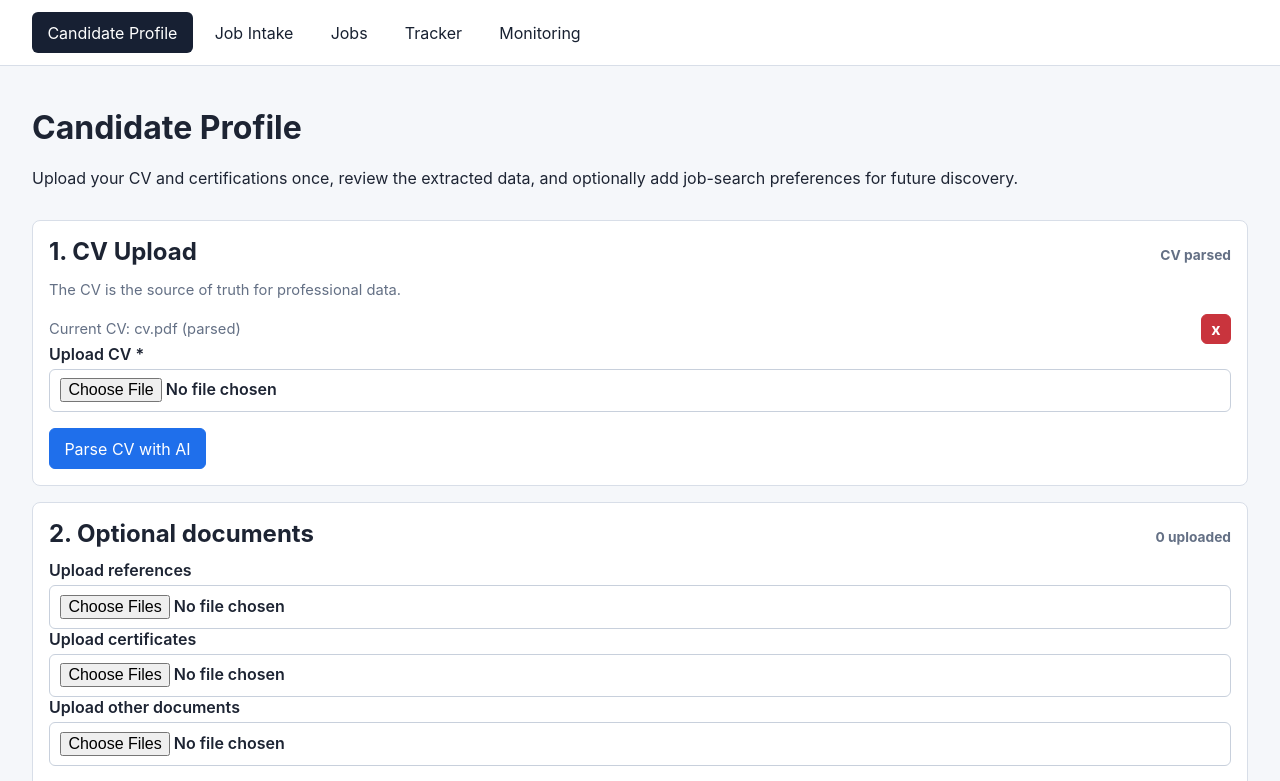
Scenario: App workflow pages › shows Jobs blockers and enables Apply only when review gates are complete
Click the button "Jobs" at coordinates (349, 33), box [315,12,383,53]
(page scrolled)
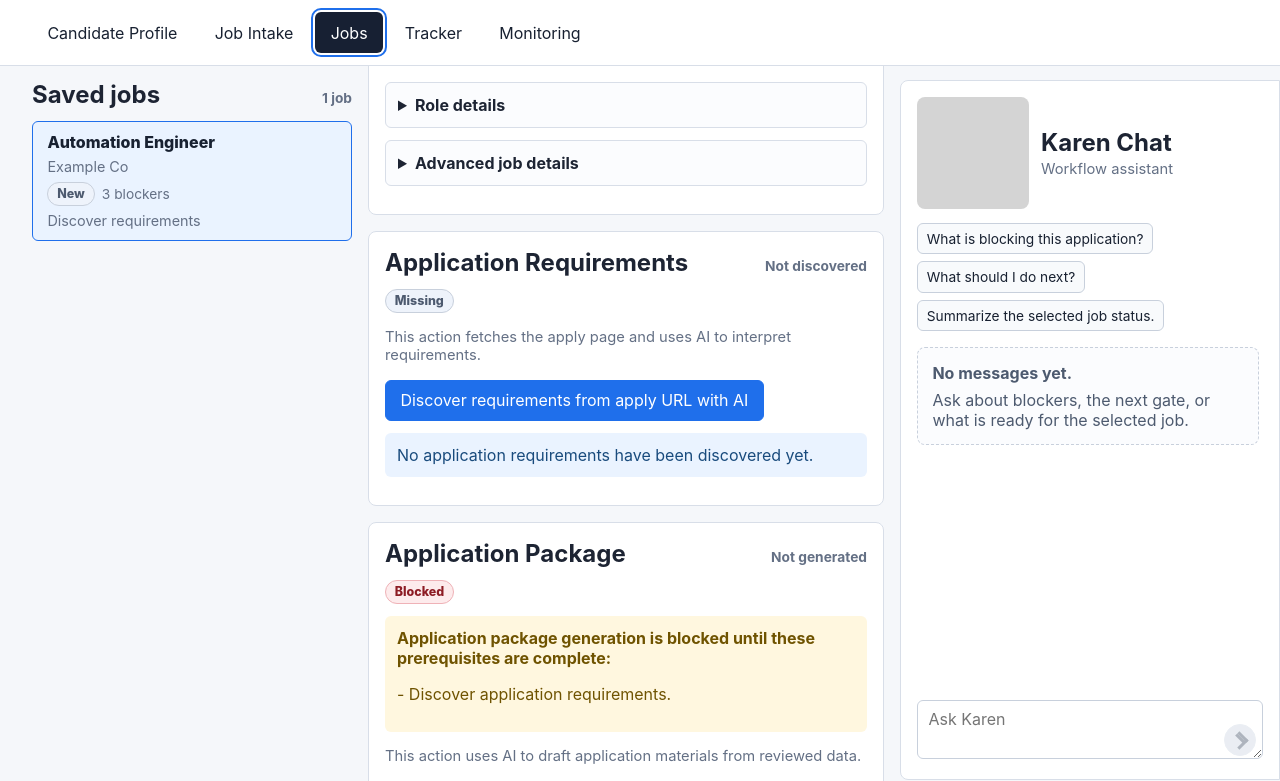
Click the button "Discover requirements from apply URL with AI" at coordinates (574, 400), box [385,380,764,421]
(page scrolled)
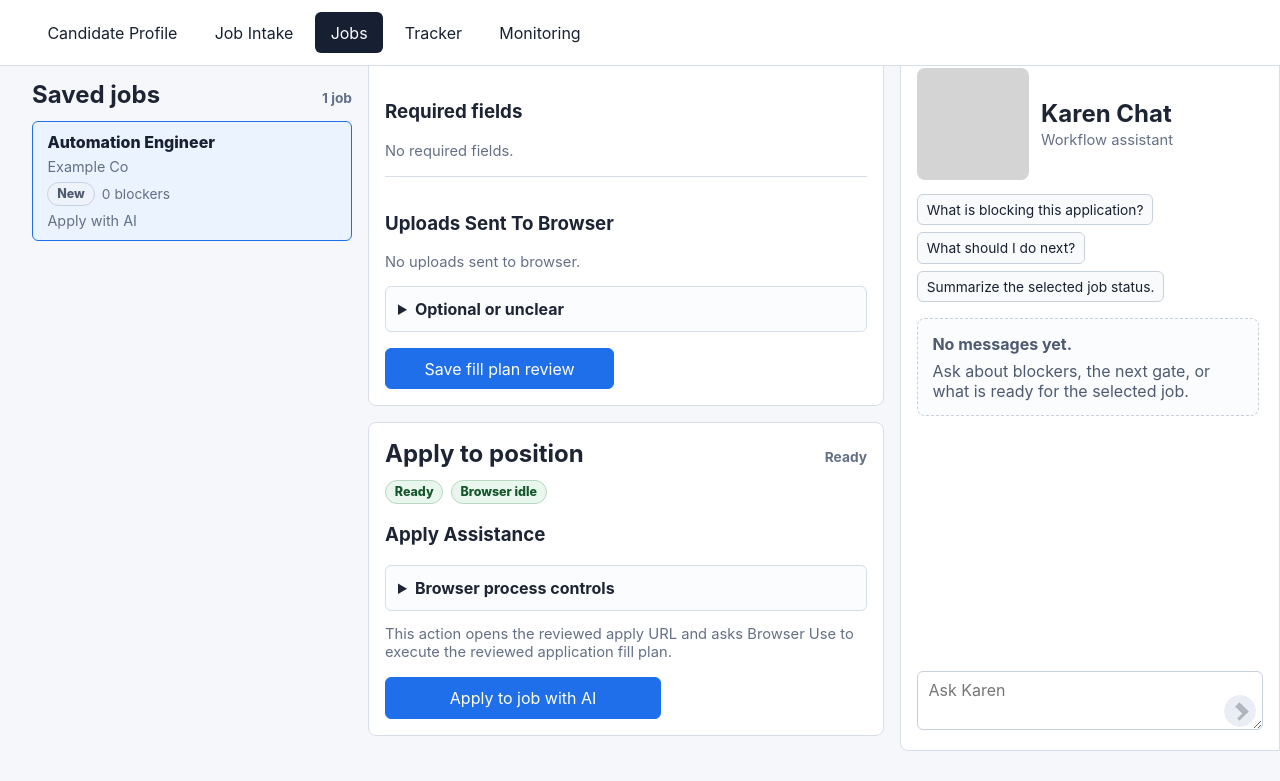
Now the button "Apply to job with AI" is enabled, box [385,678,661,719]
